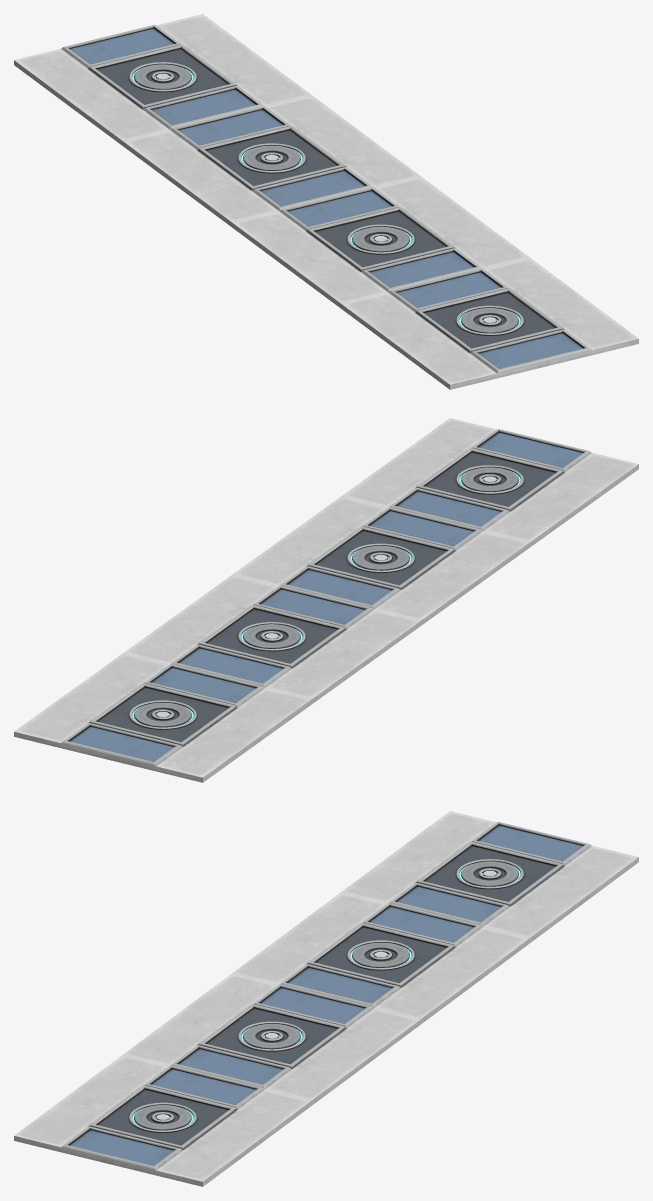
File: alfommbra.glb
3 views of the same model, one above another, from view 1: azimuth 30°, elevation 25°; view 2: azimuth 150°, elevation 25°; view 3: azimuth 330°, elevation 25° (orthographic).
Visible parts, largest first — view 1: Object_4.001; view 2: Object_4.001; view 3: Object_4.001.
Boxes of the visible parts, box(x1,y1,x2,y2) form: Object_4.001: box(14, 14, 638, 389); Object_4.001: box(14, 418, 638, 782); Object_4.001: box(14, 811, 638, 1186).
Size of the model in its own units: 2 by 0.125 by 8.
1 material, 1 textured.
